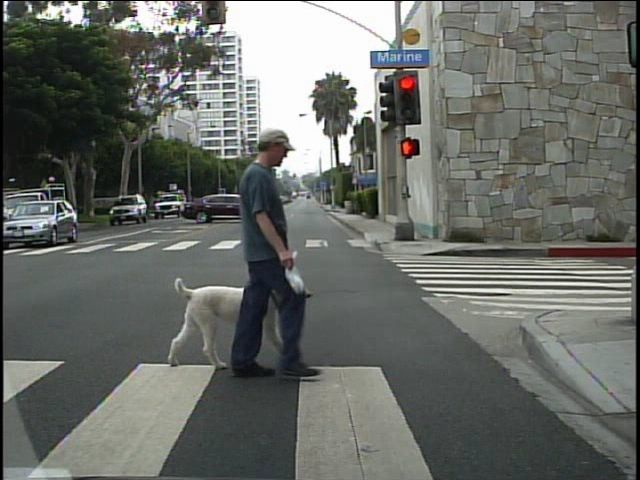person: (202, 119, 337, 386)
